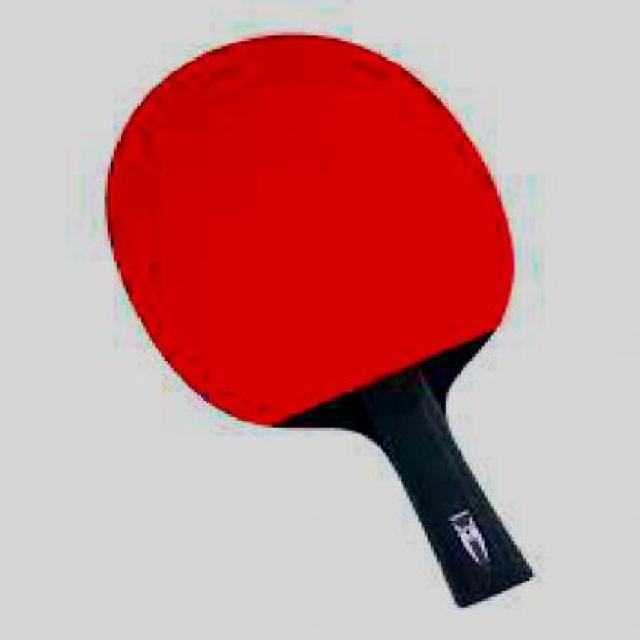table_tennis_racket: (97, 18, 521, 436)
